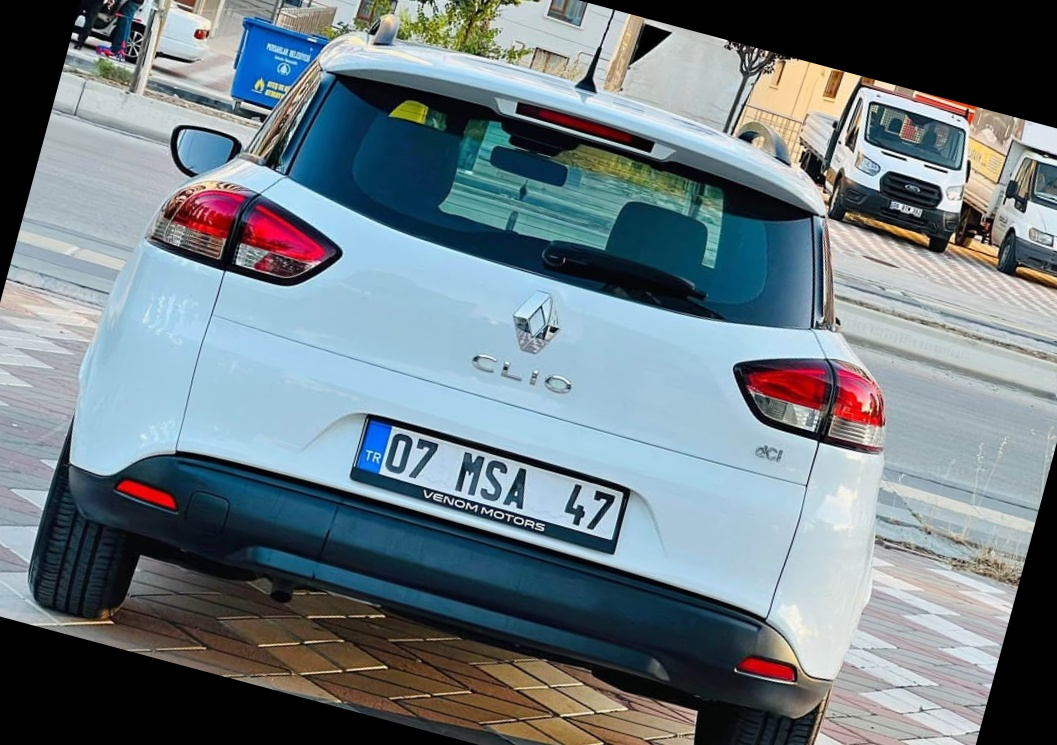plaka: (371, 415, 624, 543)
